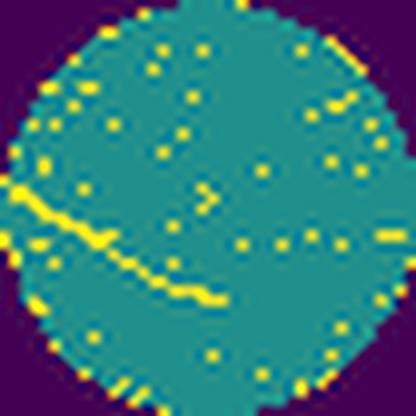Scratch: (5, 182, 237, 313)
